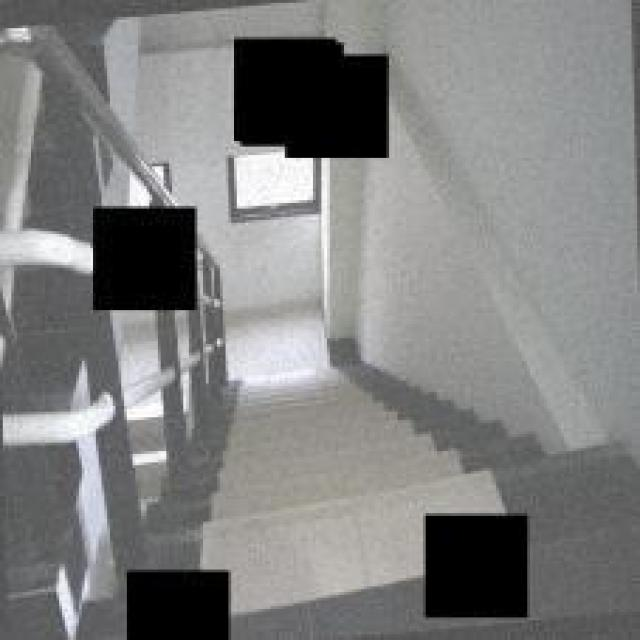downstair: (218, 393, 413, 551)
